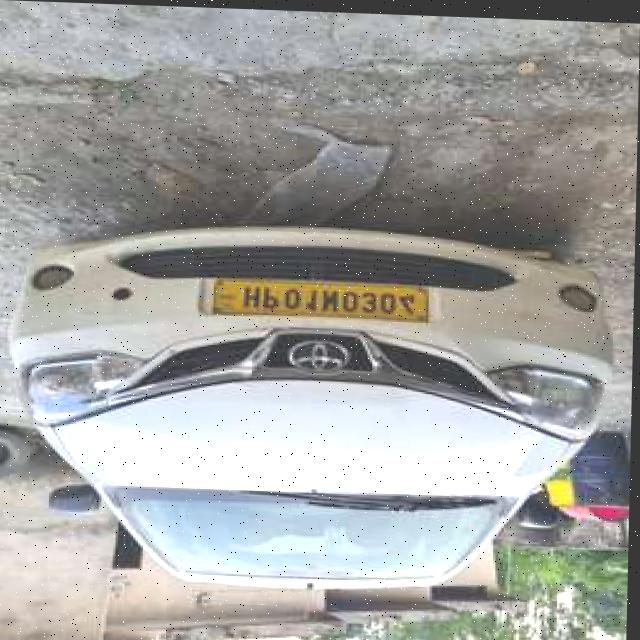plate: (212, 278, 434, 322)
